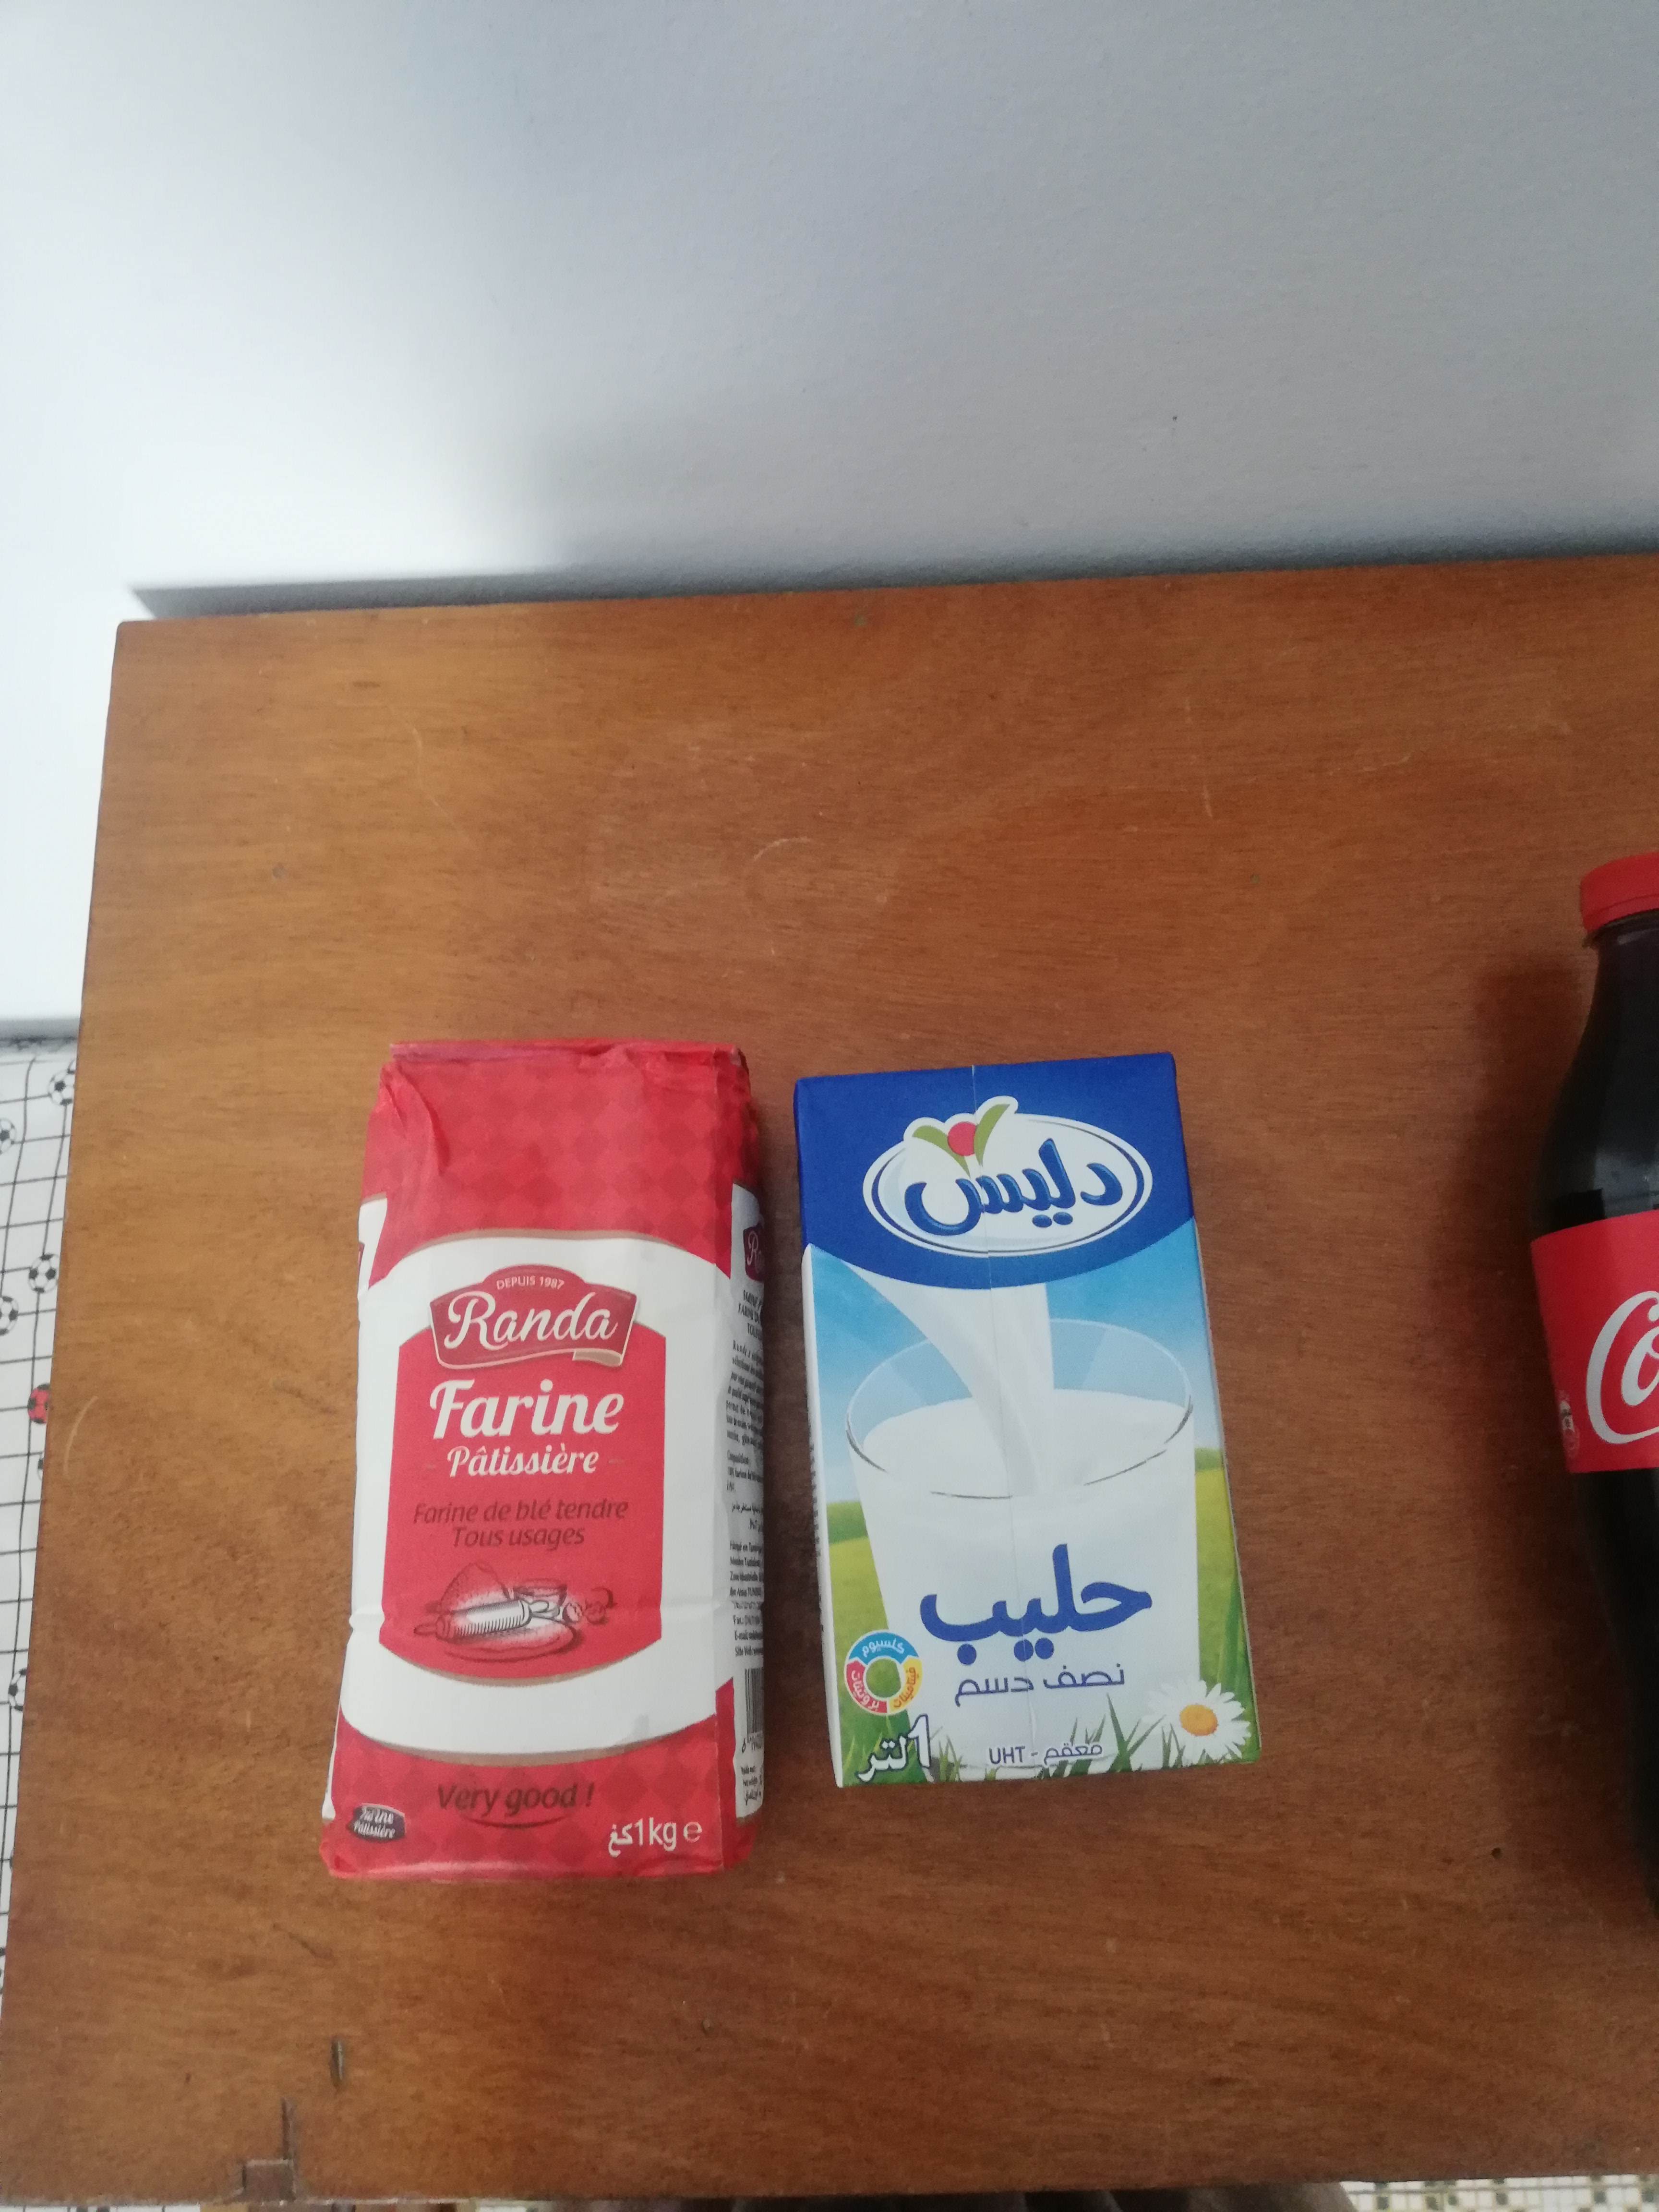Farine Randa: (315, 1043, 770, 1888)
Lait delice: (798, 1057, 1265, 1794)
